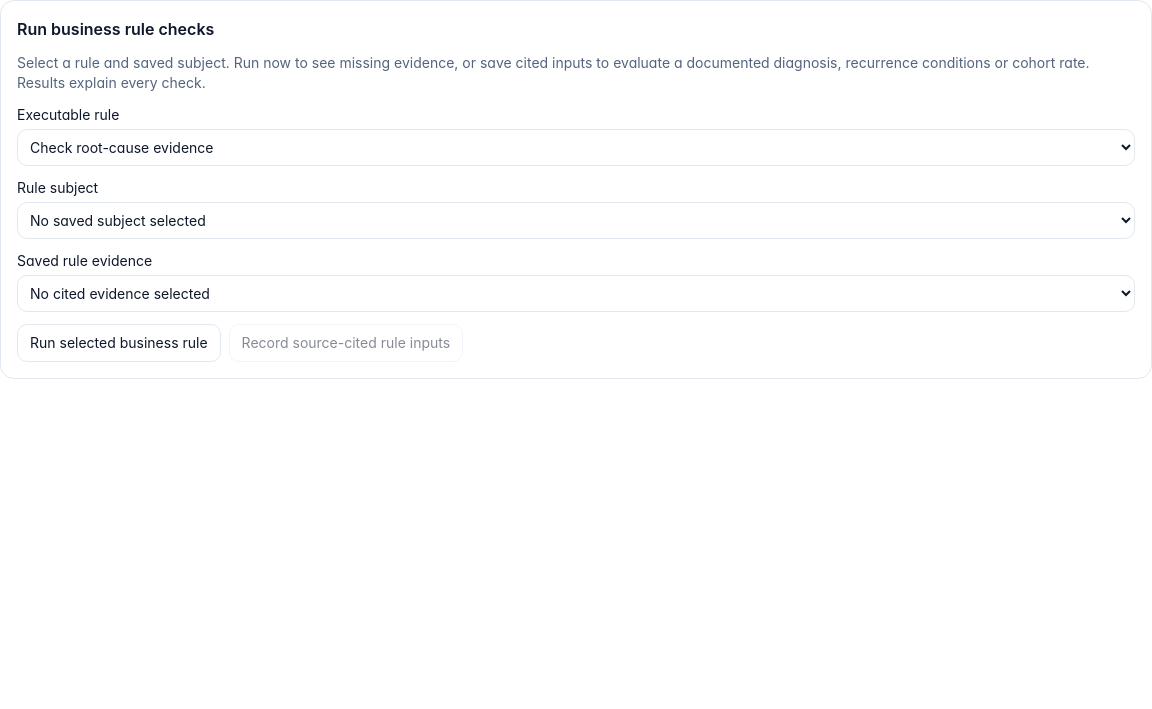
runs explicit missing evidence checks and clears results when inputs change
Later steps or results of the test are not shown.
Select "Calculate evidence-backed failure rate" in the dropdown labelled "Executable rule": (576, 148) [17,129,1135,166]
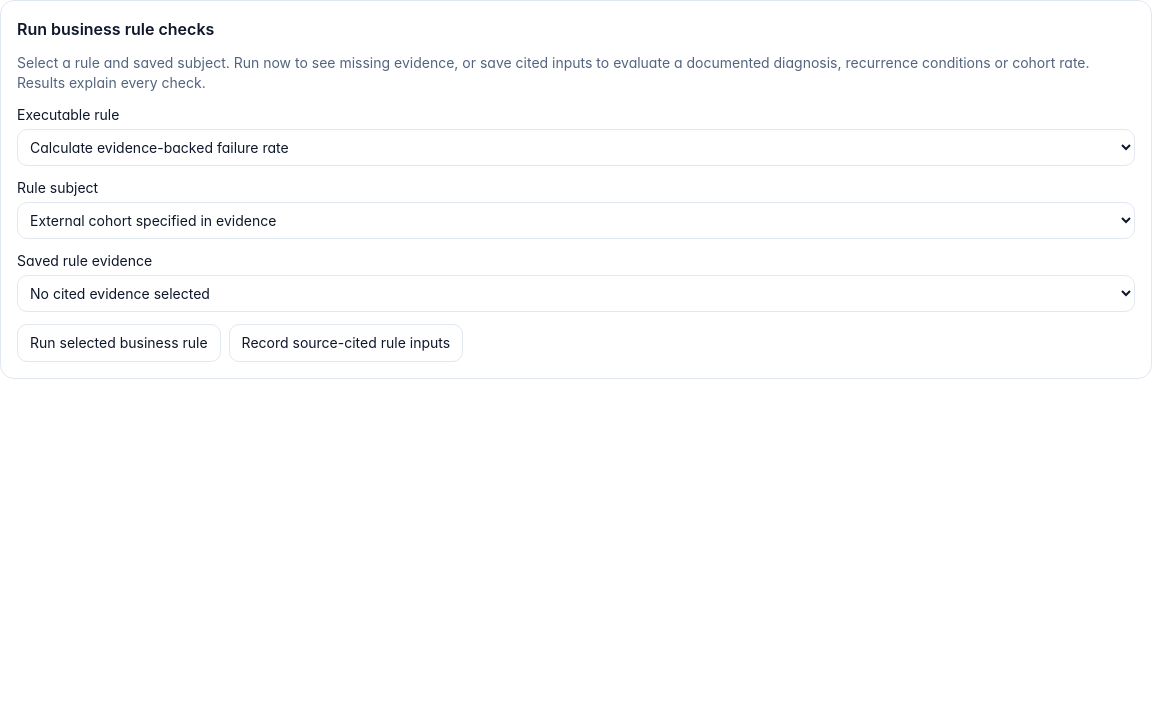
Click the button "Run selected business rule": (119, 343) [17,324,221,362]
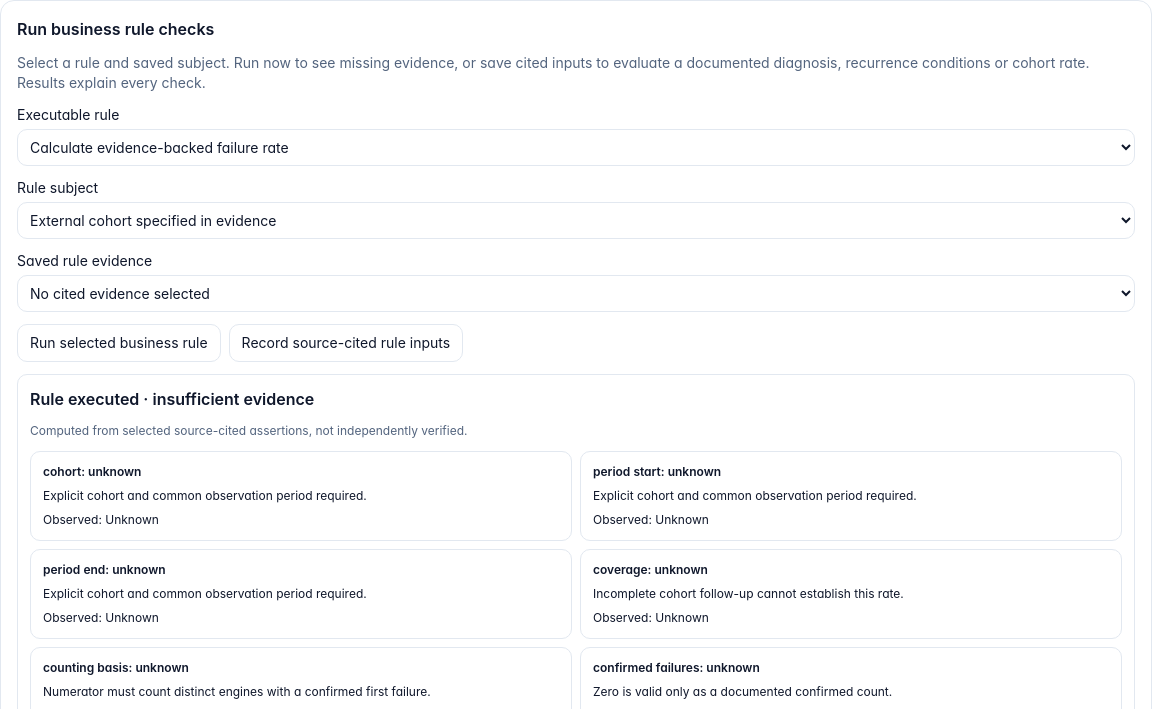
Expected: the text "Rule executed · insufficient evidence" is shown, [30,389,314,409]
